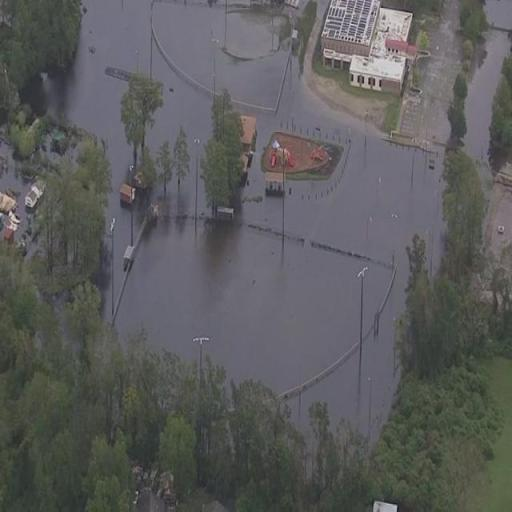flood: (115, 57, 444, 441), (63, 0, 150, 298), (153, 1, 289, 104), (149, 48, 211, 152), (466, 29, 512, 168), (228, 8, 280, 56), (0, 159, 24, 200), (488, 0, 512, 24)
house: (319, 2, 402, 68), (348, 51, 409, 97), (240, 114, 258, 149), (24, 182, 46, 208), (264, 171, 287, 192), (119, 184, 135, 204)
